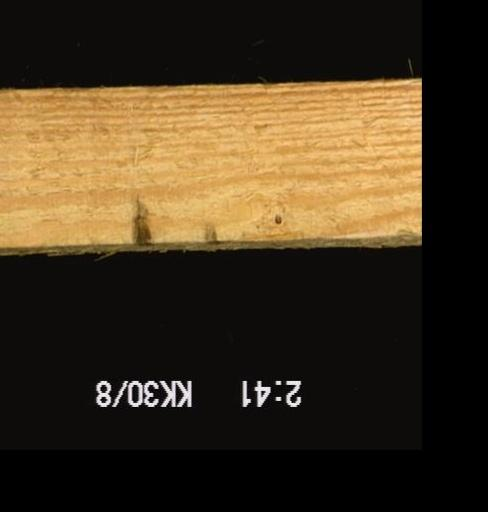small_knot: (267, 209, 286, 232)
